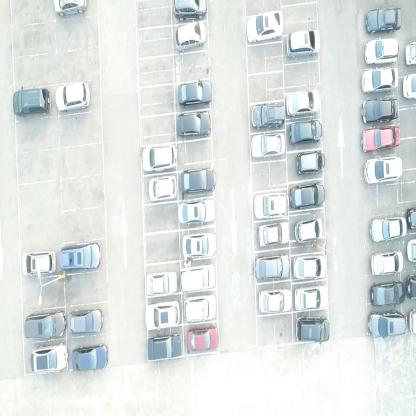car: (23, 307, 65, 340), (245, 8, 283, 44), (29, 340, 68, 374), (59, 240, 101, 271), (363, 155, 403, 185), (54, 80, 91, 111), (12, 87, 51, 116), (361, 124, 401, 152), (179, 263, 216, 293), (365, 5, 403, 34), (368, 215, 407, 243), (368, 310, 407, 338), (176, 110, 212, 140), (178, 168, 218, 195), (286, 30, 322, 60), (71, 342, 108, 371), (68, 306, 104, 335), (254, 254, 290, 283), (294, 284, 328, 314), (292, 252, 327, 281), (364, 37, 399, 66), (141, 143, 177, 171), (179, 197, 215, 225), (20, 248, 57, 275), (289, 184, 326, 211), (294, 318, 332, 344), (361, 66, 399, 92), (361, 98, 399, 124), (146, 299, 180, 328), (254, 191, 288, 220), (289, 118, 323, 147), (182, 233, 218, 260), (250, 132, 286, 159), (176, 21, 206, 53), (184, 294, 218, 322), (147, 335, 183, 361), (250, 102, 286, 128), (286, 90, 322, 116), (145, 271, 178, 298), (186, 327, 219, 354), (178, 80, 212, 106), (370, 250, 404, 276), (257, 221, 290, 247), (258, 288, 292, 313), (370, 282, 405, 306), (294, 218, 325, 243), (172, 0, 207, 22), (148, 176, 178, 201), (296, 151, 326, 176), (53, 0, 87, 15), (403, 72, 415, 101), (404, 38, 416, 66), (406, 272, 416, 300), (406, 237, 416, 263), (406, 205, 416, 229), (408, 310, 416, 336)
